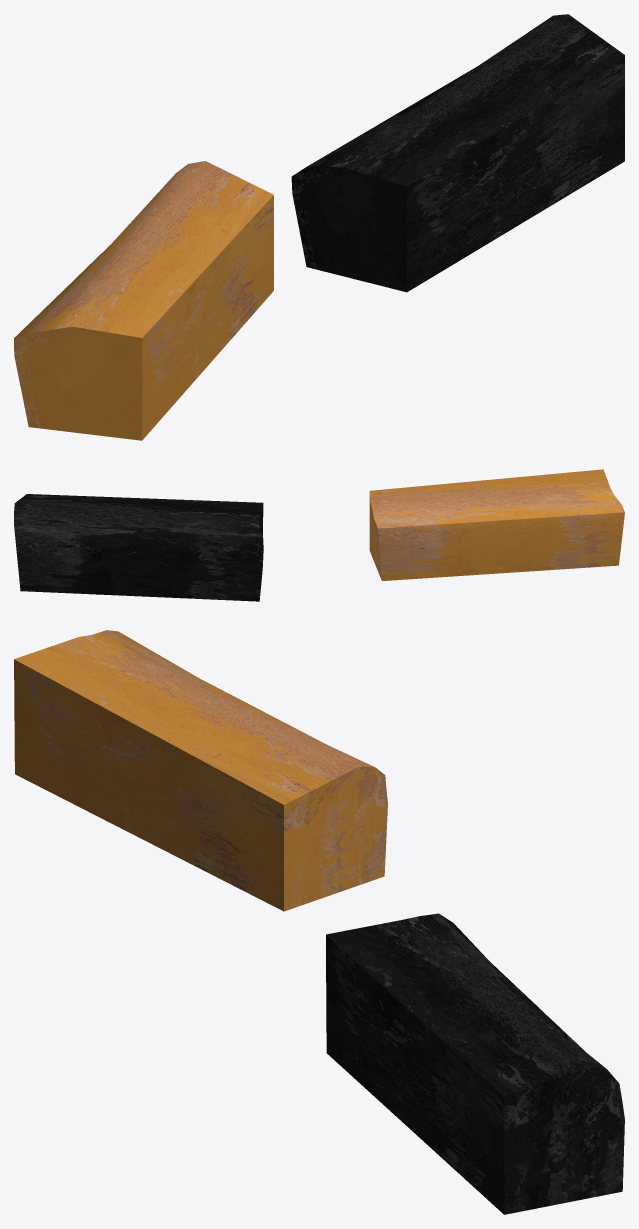
Rendered from indivisual YELLOW BLACK pavements.fbx.
3 renders of one model, top to bottom at view 1: azimuth 30°, elevation 25°; view 2: azimuth 150°, elevation 25°; view 3: azimuth 270°, elevation 25°, orthographic. The views are drawn at different scales.
Visible parts, largest first — view 1: Cube.004, Cube.005; view 2: Cube.004, Cube.005; view 3: Cube.005, Cube.004.
Boxes of the visible parts, x1=… form: Cube.004: x1=291, y1=14, x2=624, y2=292; Cube.005: x1=14, y1=161, x2=273, y2=440; Cube.004: x1=14, y1=494, x2=263, y2=601; Cube.005: x1=369, y1=469, x2=624, y2=580; Cube.005: x1=14, y1=630, x2=387, y2=911; Cube.004: x1=326, y1=913, x2=624, y2=1214.
Bounding box in the file's own units: 369 × 75.49 × 224.
